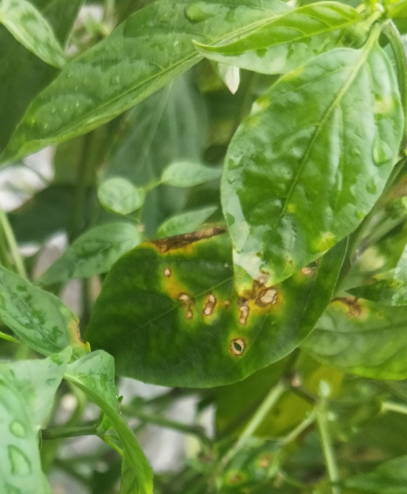Anthrax: (86, 223, 350, 389)
